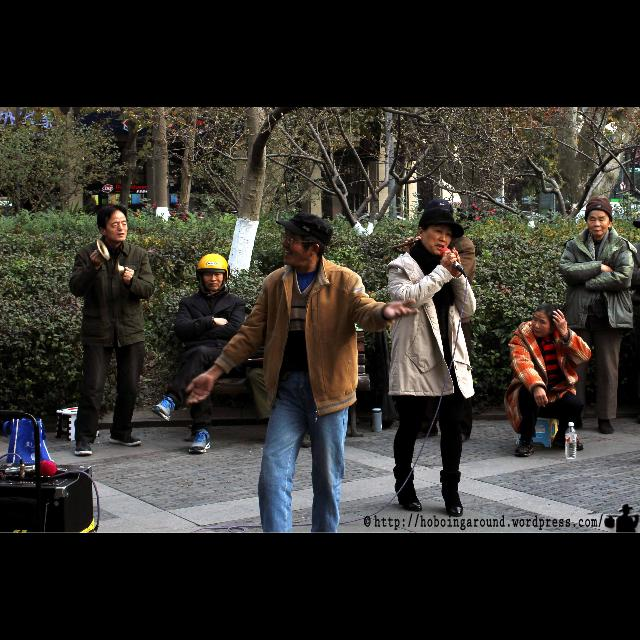head: (282, 222, 328, 270), (418, 209, 454, 257), (96, 203, 130, 243), (530, 304, 560, 338), (426, 199, 454, 231), (586, 203, 612, 237), (202, 260, 226, 292)
person: (383, 205, 479, 519), (64, 202, 158, 458), (389, 196, 478, 448), (148, 252, 248, 456), (556, 196, 638, 437), (502, 300, 594, 460)
